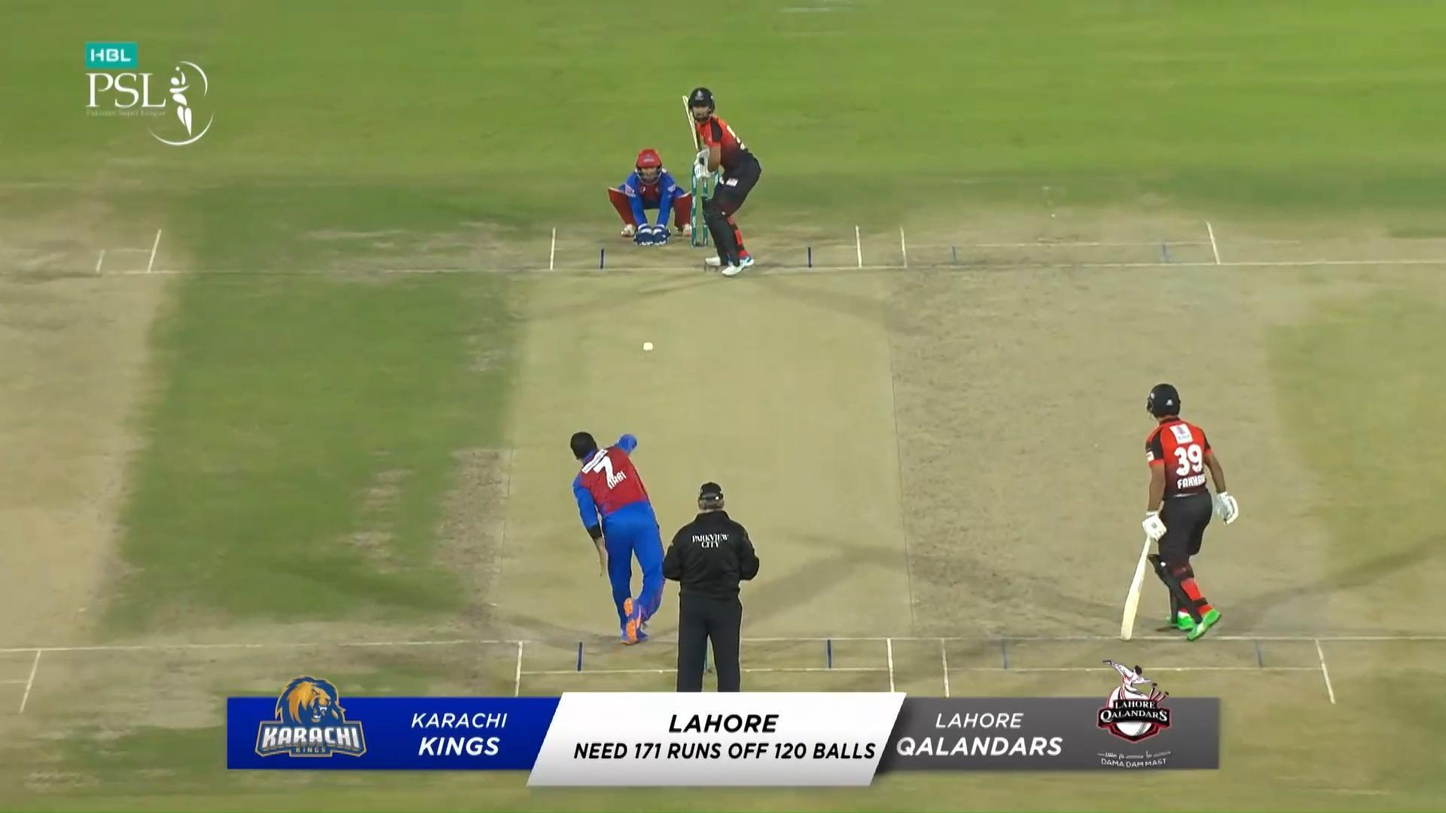BM 1: (680, 87, 762, 276)
BO: (569, 429, 673, 646)
